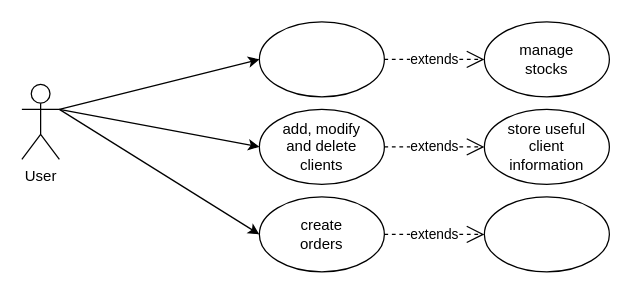
This 631x294 diagram has some shape labels left out. Each missing label, with the centre of its shape:
"add, modify and delete products" goes at (x=321, y=59).
"generate bills" goes at (x=546, y=234).
